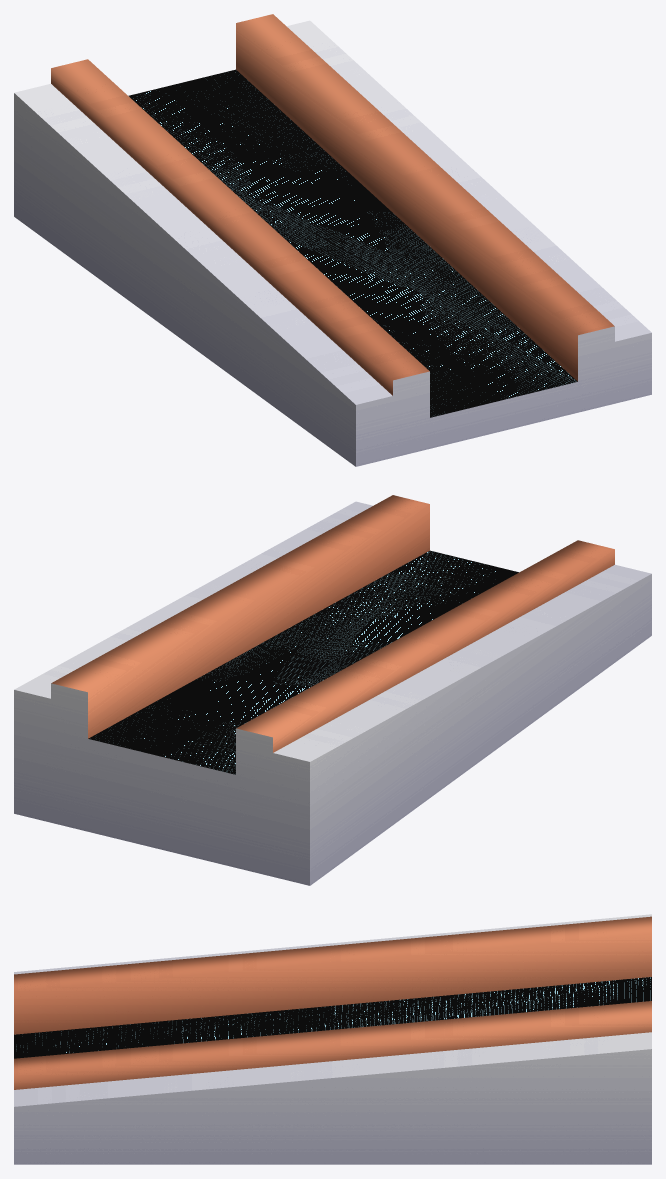
The model's file is tower-defense-kit--snow-tile-river-slope-large.glb.
3 views of the same model, one above another, from view 1: azimuth 30°, elevation 25°; view 2: azimuth 150°, elevation 25°; view 3: azimuth 270°, elevation 25° (orthographic). The views are drawn at different scales.
Visible parts, largest first — view 1: snow-tile-river-slope-large; view 2: snow-tile-river-slope-large; view 3: snow-tile-river-slope-large.
Part boxes in pixels (x1,y1,x2,y2): snow-tile-river-slope-large: (14,14,651,466); snow-tile-river-slope-large: (14,495,651,885); snow-tile-river-slope-large: (14,914,651,1164).
Size of the model in its own units: 1 by 0.45 by 2.
1 material, 1 textured.
